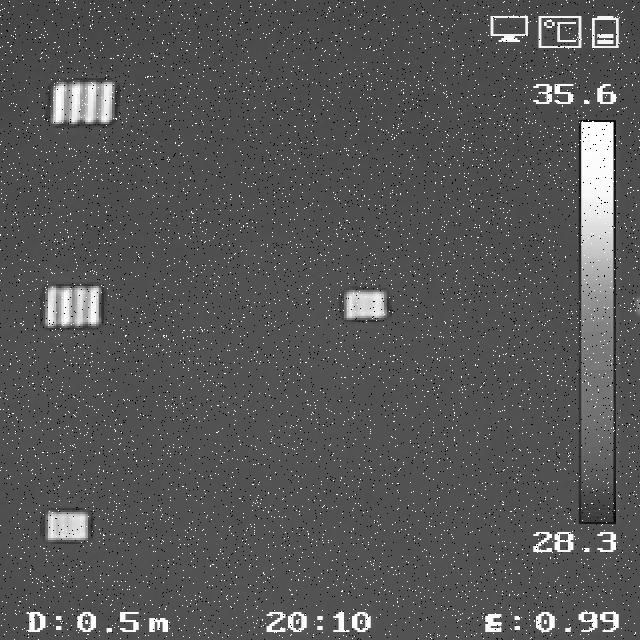Distinguishable 4-bar target: (50, 81, 114, 124), (43, 282, 100, 325)
Indistinguishable 4-bar target: (347, 289, 382, 318)
threshold 4-bar target: (47, 512, 92, 541)
